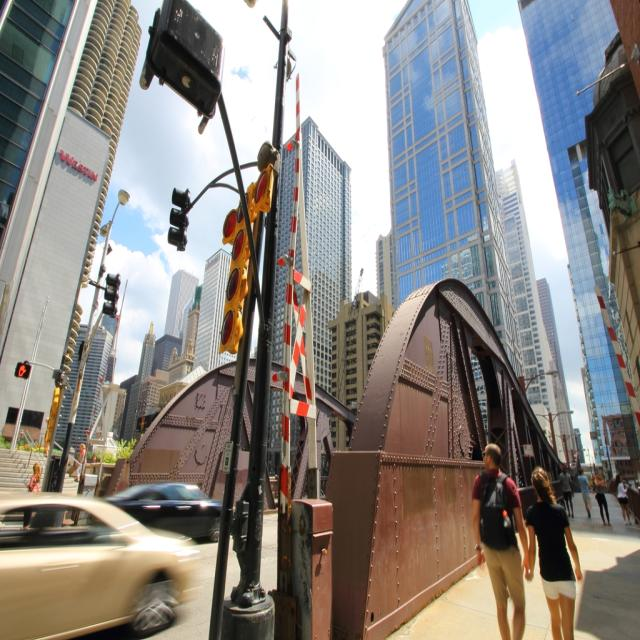car: (0, 478, 203, 637)
